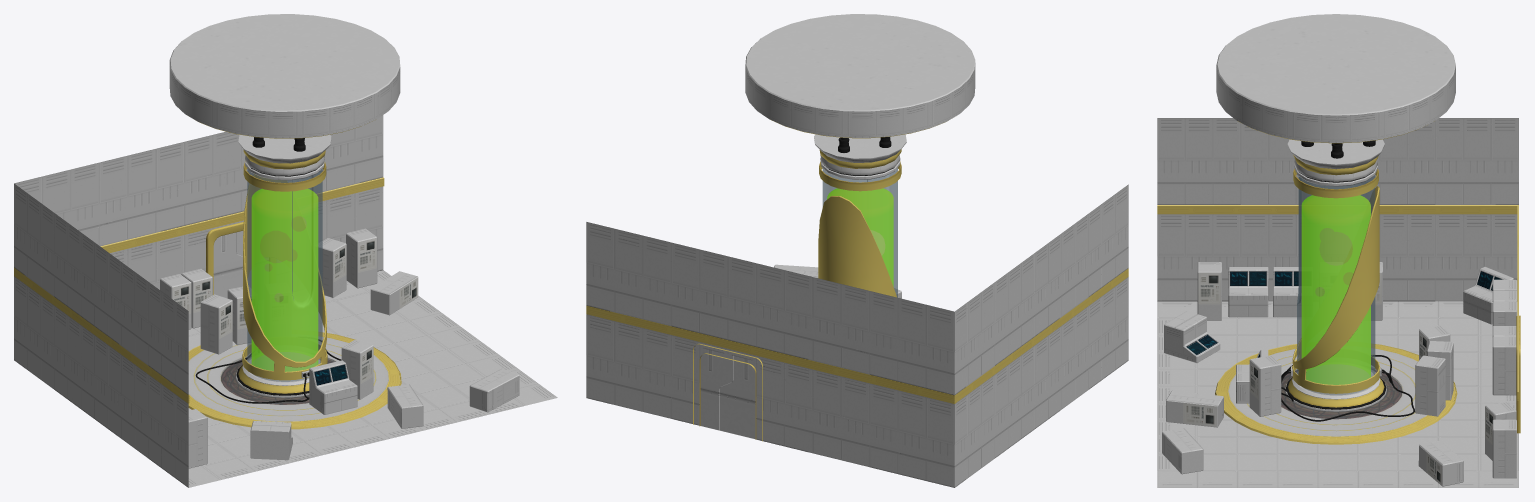
File: sci_fi_science_lab.glb
3 views of the same model, side by side, from view 1: azimuth 30°, elevation 25°; view 2: azimuth 150°, elevation 25°; view 3: azimuth 270°, elevation 25° (orthographic). The views are drawn at different scales.
Parts seen in each view (by area): view 1: Wall, Top wiring, Floor, Glass container, Liquid, Botttom base, Metal brace, Top closure, Terminal, Main frame.008, Main frame.011, Lower glass holder (+14 smaller); view 2: Wall, Top wiring, Metal brace, Glass container, Top closure, Door panel 1, Liquid, Door panel 2, Metal ring, Door Frame; view 3: Wall, Floor, Top wiring, Glass container, Liquid, Botttom base, Metal brace, Top closure, Lower glass holder, Terminal.004, Terminal.002, Main frame (+19 smaller).
Boxes of the visible parts, x1,y1,x2,y2 form: Wall: (14,115,384,487); Top wiring: (169,14,400,138); Floor: (188,270,557,487); Glass container: (247,168,322,381); Liquid: (251,189,318,371); Botttom base: (188,332,401,429); Metal brace: (242,174,327,380); Top closure: (238,134,331,180); Terminal: (309,360,357,414); Main frame.008: (200,294,232,354); Main frame.011: (346,228,377,288); Lower glass holder: (236,352,320,395); Wall: (586,184,1128,487); Top wiring: (745,14,975,138); Metal brace: (818,196,896,297); Glass container: (822,168,897,297); Top closure: (814,134,906,179); Door panel 1: (719,356,756,438); Liquid: (827,188,893,286); Door panel 2: (700,348,733,430); Metal ring: (819,161,901,191); Door Frame: (693,343,762,441); Wall: (1157,118,1518,400); Floor: (1157,301,1518,487); Top wiring: (1216,14,1455,143); Glass container: (1297,175,1375,394); Liquid: (1301,195,1370,384); Botttom base: (1215,344,1457,444); Metal brace: (1292,186,1380,393); Top closure: (1287,139,1384,186); Lower glass holder: (1286,364,1386,409); Terminal.004: (1164,311,1220,362); Terminal.002: (1228,267,1268,317); Main frame: (1249,355,1281,416).
Size of the model in its own units: 14.67 by 12.07 by 12.06.
4 materials, 4 textured.
